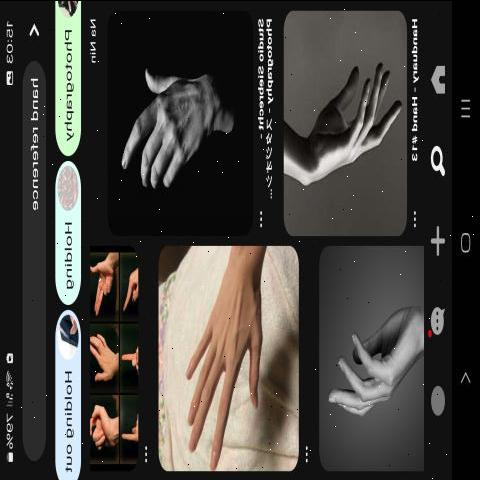Hands: (151, 271, 293, 471), (109, 36, 224, 214), (280, 46, 405, 202), (316, 294, 422, 440)
